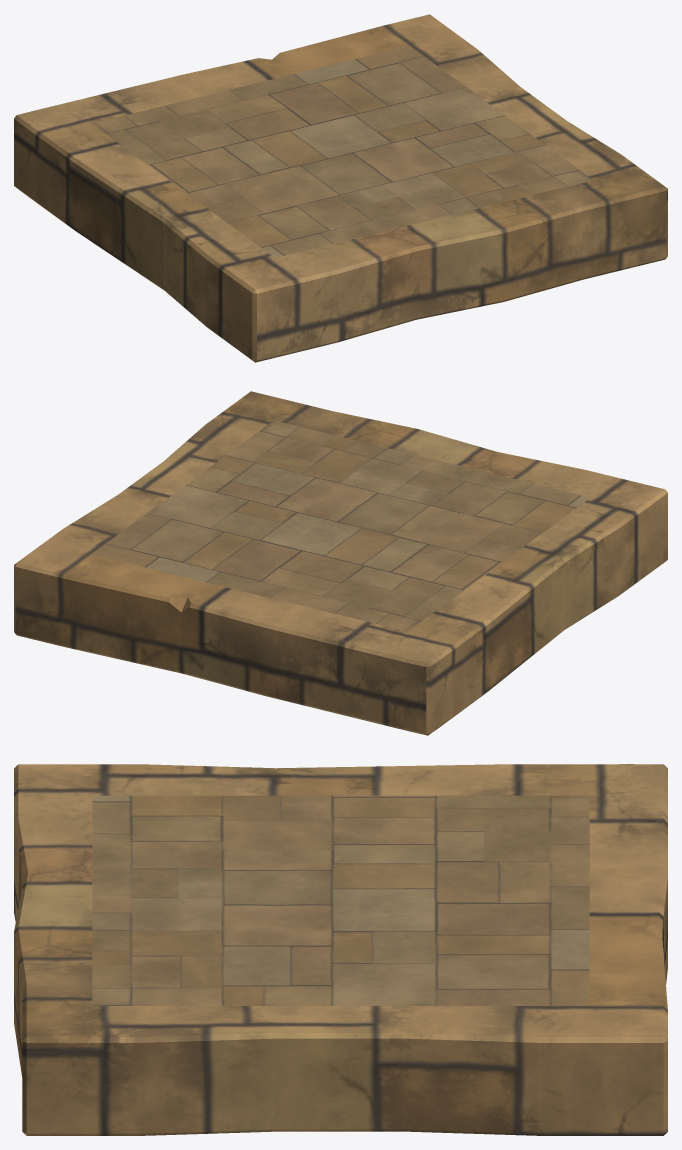
Rendered from PlatformSmallOscYSpinning.fbx.
The picture shows the model from 3 angles, top to bottom: view 1: azimuth 30°, elevation 25°; view 2: azimuth 150°, elevation 25°; view 3: azimuth 270°, elevation 25°; orthographic projection. The views are drawn at different scales.
Parts seen in each view (by area): view 1: PlatformSmallOscYSpinning; view 2: PlatformSmallOscYSpinning; view 3: PlatformSmallOscYSpinning.
Part boxes in pixels (bbox=[...]): PlatformSmallOscYSpinning: bbox=[14, 14, 667, 362]; PlatformSmallOscYSpinning: bbox=[14, 391, 667, 735]; PlatformSmallOscYSpinning: bbox=[14, 764, 667, 1135].
Bounding box in the file's own units: 300 × 50 × 300.
